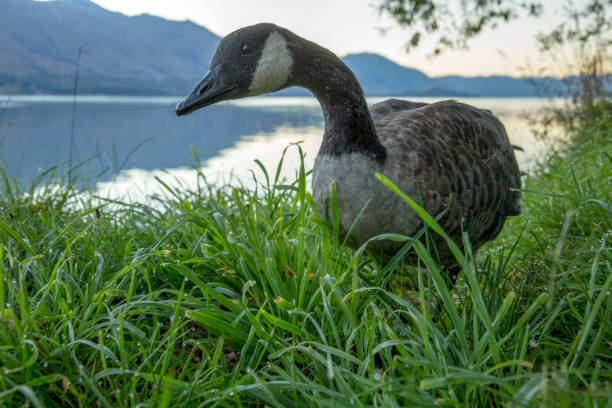goose: (168, 18, 526, 277)
